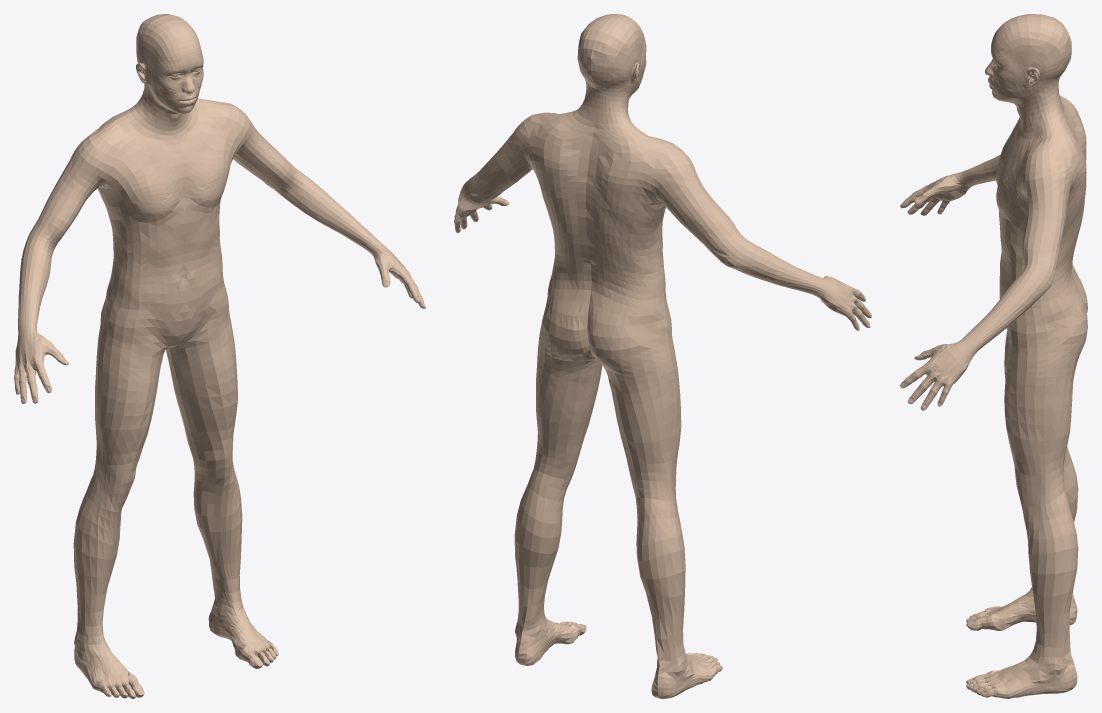
The model's file is male-adult-fit-strong.glb.
3 views of the same model, side by side, from view 1: azimuth 30°, elevation 25°; view 2: azimuth 150°, elevation 25°; view 3: azimuth 270°, elevation 25° (orthographic).
Visible parts, largest first — view 1: world; view 2: world; view 3: world.
Boxes of the visible parts, x1=… form: world: x1=14, y1=14, x2=425, y2=698; world: x1=454, y1=14, x2=871, y2=698; world: x1=900, y1=14, x2=1087, y2=698.
Size of the model in its own units: 1.28 by 1.95 by 0.5171.
